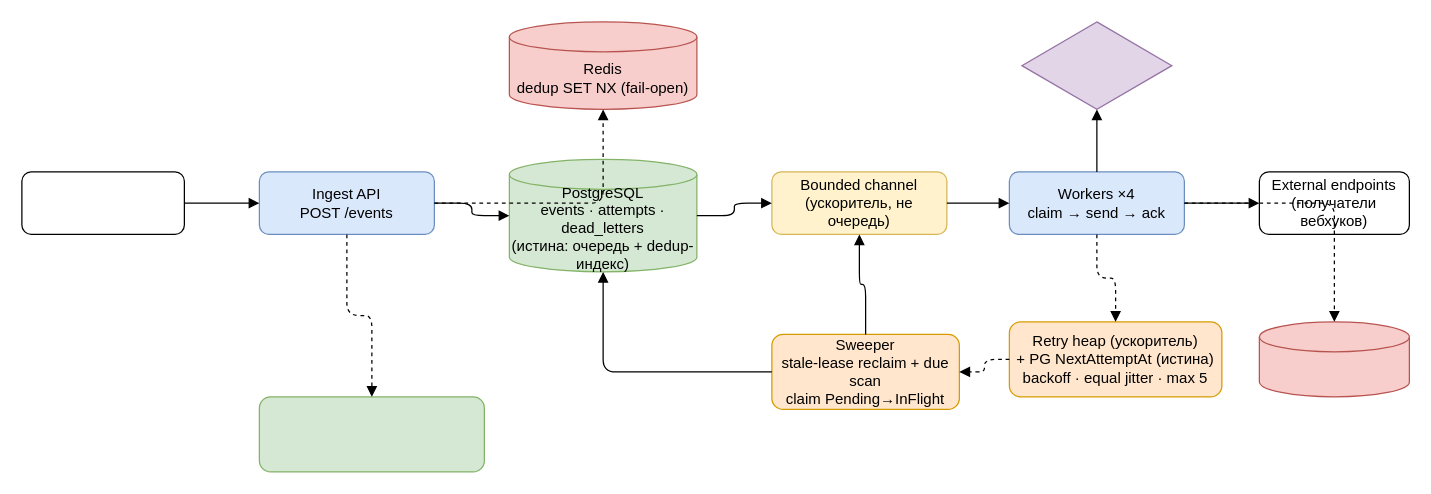
Some shapes in this 1431 by 494 pixel diagram are drawn without their labels. The shapes that lost their labels are listed below. From the top down, each one's centre as x and y in pixels, then its label:
pixel 1096 65: Token bucket per webhook
pixel 102 202: Client services
pixel 1333 359: DeadLetters + replay
pixel 371 434: Dashboard + SignalR /metrics /stats /events /hubs
